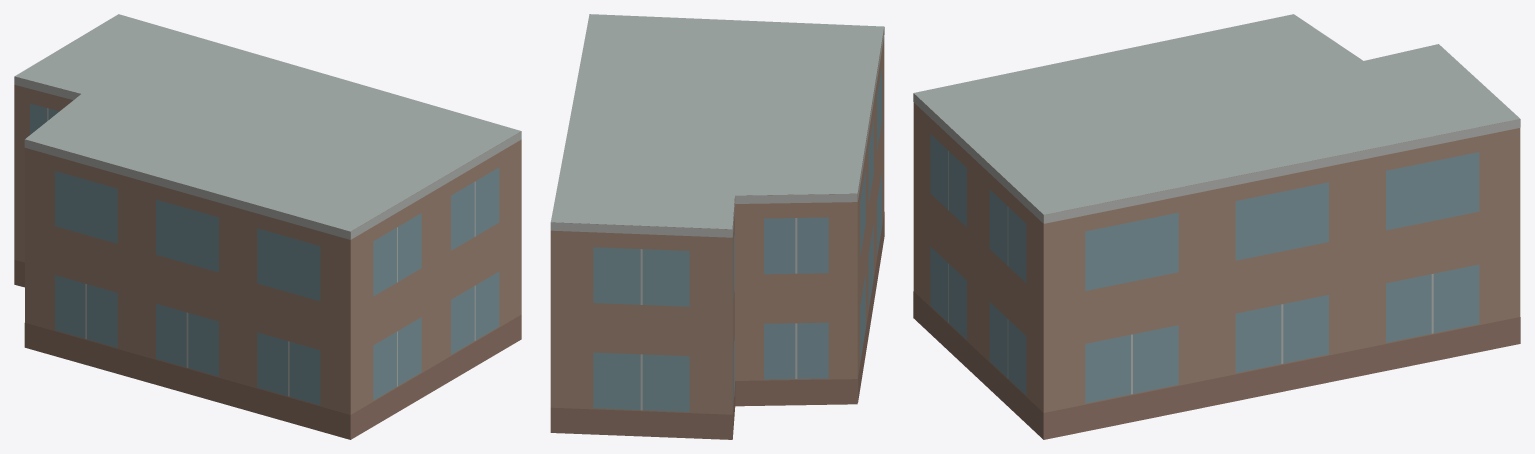
File: survey-upis-32810709.glb
3 views of the same model, side by side, from view 1: azimuth 30°, elevation 25°; view 2: azimuth 150°, elevation 25°; view 3: azimuth 270°, elevation 25° (orthographic). The views are drawn at different scales.
Parts seen in each view (by area): view 1: survey-upis-32810709.tmp; view 2: survey-upis-32810709.tmp; view 3: survey-upis-32810709.tmp.
Boxes of the visible parts, x1,y1,x2,y2 form: survey-upis-32810709.tmp: (14, 14, 521, 439); survey-upis-32810709.tmp: (550, 14, 884, 439); survey-upis-32810709.tmp: (913, 14, 1520, 439).
Bounding box in the file's own units: 11.69 × 6.1 × 14.93.
